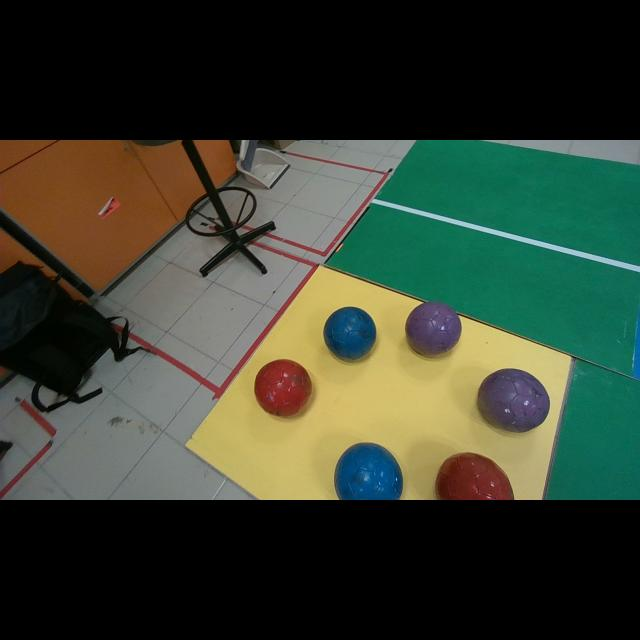B: (334, 442, 402, 500), (324, 306, 376, 360)
P: (478, 369, 550, 432), (405, 301, 461, 355)
R: (435, 452, 514, 500), (254, 359, 311, 416)
